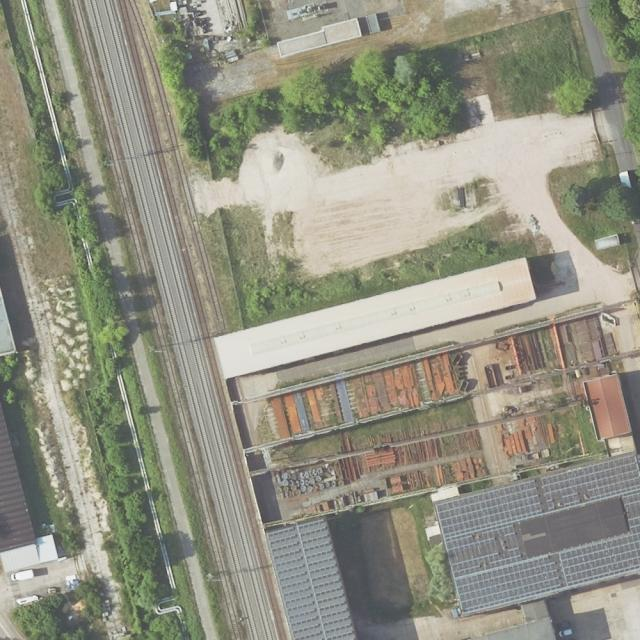PV: (435, 479, 562, 613), (540, 454, 640, 587), (267, 518, 356, 640)
